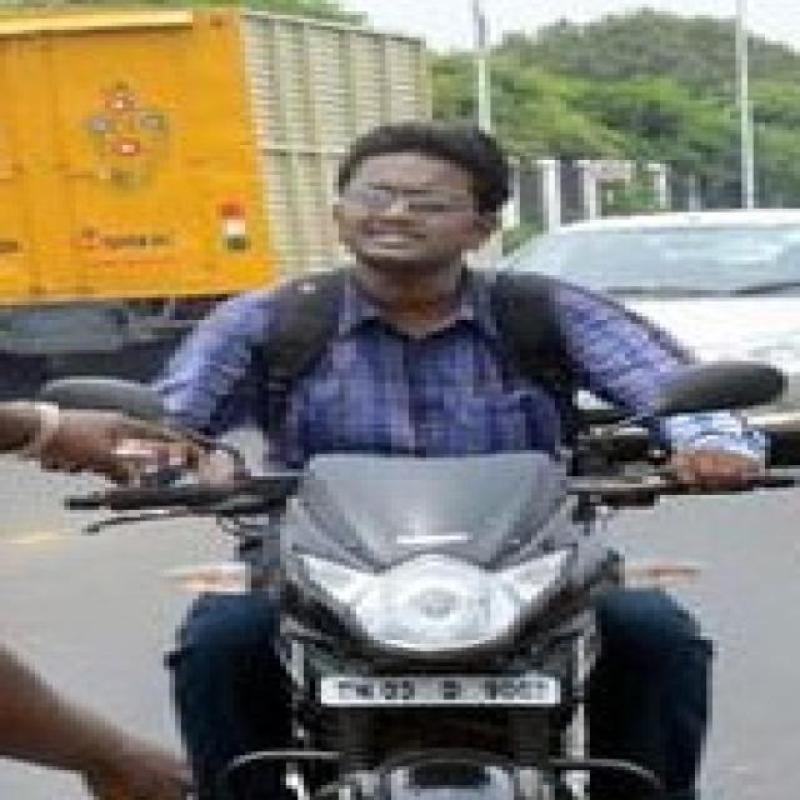nohelmet: (321, 118, 507, 282)
